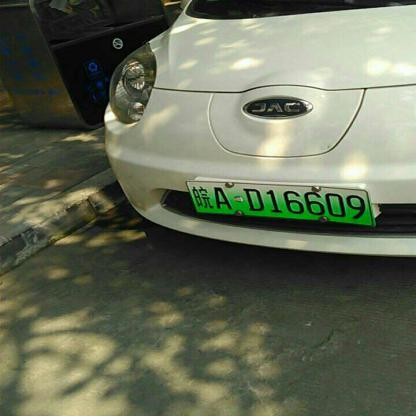lp: (186, 183, 375, 224)
